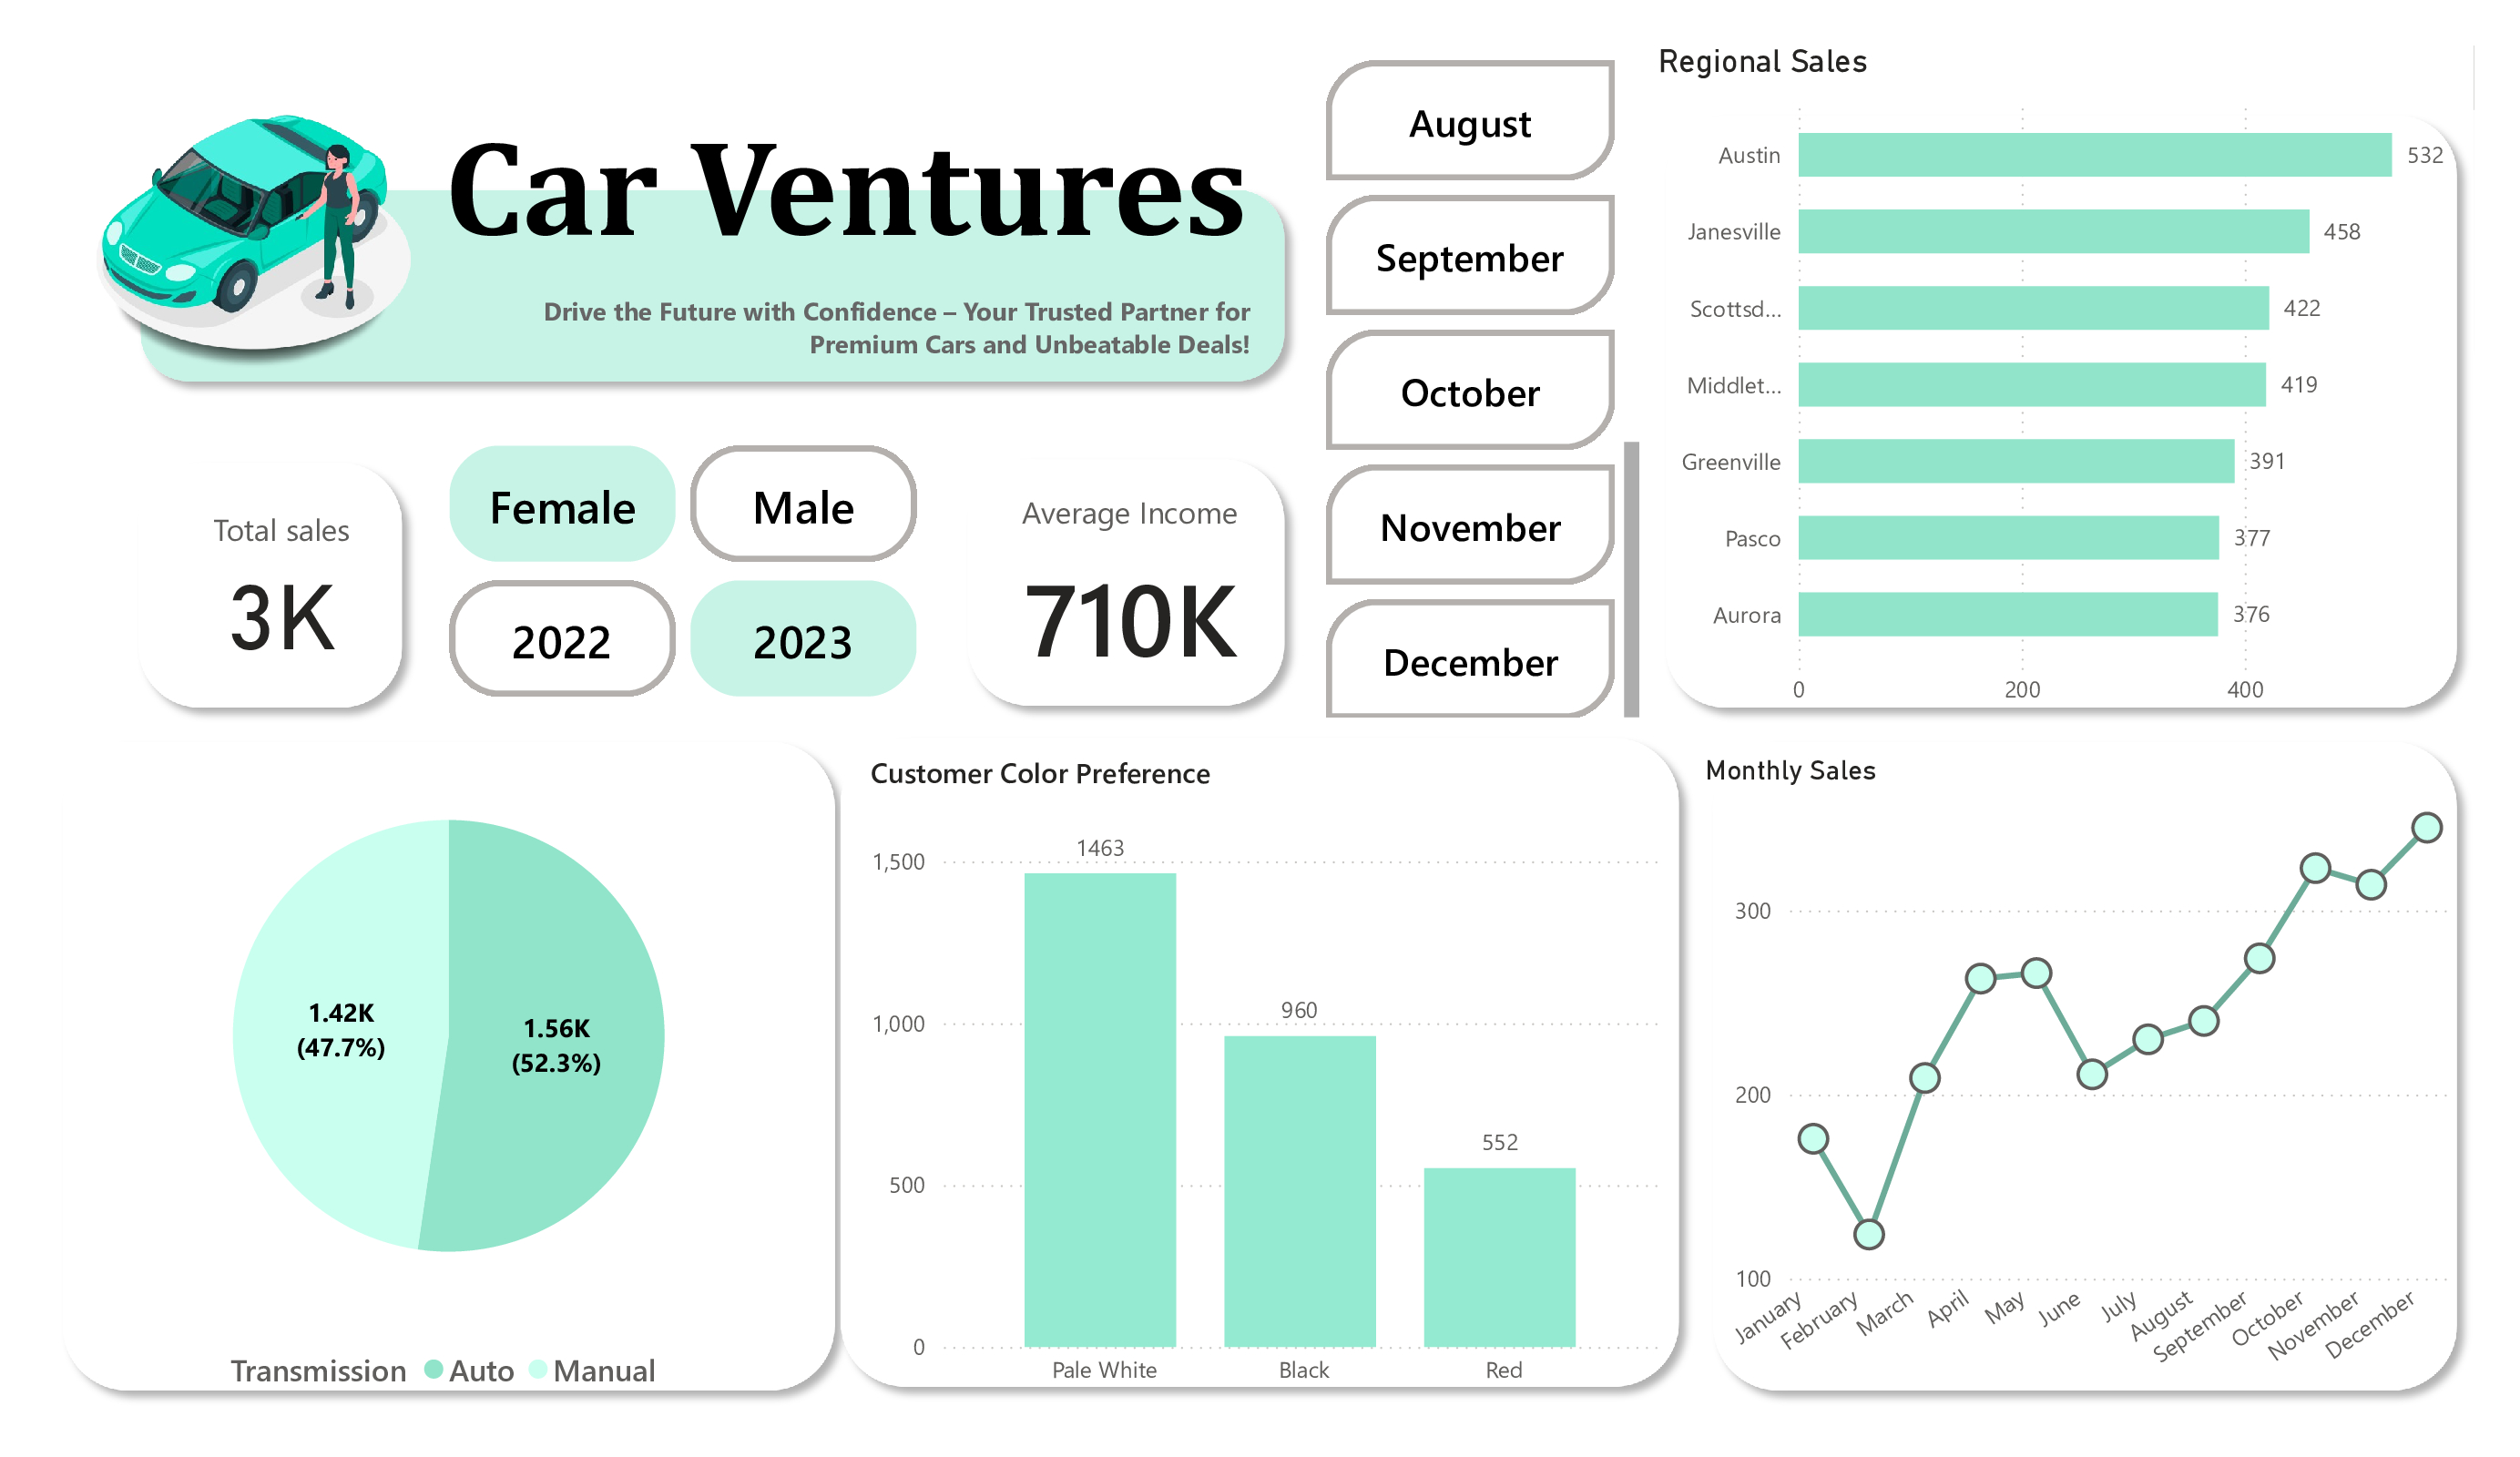

Layout of this report page (visuals, bound fields, positions):
{"tool":"powerbi","page":{"name":"Dashboard","canvas":[1280,720],"ordinal":0},"visuals":[{"type":"shape","box":[845,28.3,435,330],"z":0,"group":"g4"},{"type":"shape","box":[40.6,67.1,621.6,119],"z":0,"group":"g2"},{"type":"group","id":"g1","title":"Group 1","box":[40,211.6,156.7,146.7],"z":0,"group":"g7"},{"type":"shape","box":[40,211.6,156.7,146.7],"z":0,"group":"g1"},{"type":"shape","box":[410,356.6,460,360],"z":0,"group":"g6"},{"type":"shape","box":[0,358.3,425,360],"z":500,"group":"g5"},{"type":"image","box":[0,-1.7,217.7,187.3],"z":1000,"group":"g2"},{"type":"shape","box":[476.7,208.9,185,148.3],"z":1000,"group":"g7"},{"type":"cardVisual","title":"Tita","fields":{"Data":["CountNonNull(Car_Dataset.Purchase_id)"]},"box":[52.9,224.2,143.2,124.4],"z":1000,"group":"g1"},{"type":"clusteredColumnChart","title":"Customer Color Preference","fields":{"Category":["Car_Dataset.Color"],"Y":["CountNonNull(Car_Dataset.Purchase_id)"]},"box":[430,373.3,428.3,343.3],"z":1000,"group":"g6"},{"type":"group","id":"g2","title":"Group 2","box":[0,-1.7,662.2,187.8],"z":2000,"group":"g7"},{"type":"advancedSlicerVisual","fields":{"Values":["Car_Dataset.Gender"]},"box":[208.3,206.6,256.7,71],"z":2000,"group":"g3"},{"type":"advancedSlicerVisual","fields":{"Values":["Car_Dataset.Month"]},"box":[670,-1.7,175,360],"z":3000,"group":"g7"},{"type":"textbox","box":[193.1,27.6,458.3,105.4],"z":3000,"group":"g2"},{"type":"advancedSlicerVisual","fields":{"Values":["Car_Dataset.Date.Variation.Date Hierarchy.Year"]},"box":[208.3,277.6,256.7,71],"z":3001,"group":"g3"},{"type":"textbox","box":[230.5,126.2,409.6,53.9],"z":4000,"group":"g2"},{"type":"cardVisual","title":"Tita","fields":{"Data":["Avg(Car_Dataset.Annual Income)"]},"box":[490,218.3,163.3,130],"z":4000,"group":"g7"},{"type":"group","id":"g3","title":"Group 3","box":[208.3,206.6,256.7,141.7],"z":5000,"group":"g7"},{"type":"group","id":"g4","title":"Group 4","box":[845,-1.7,435,360],"z":6000,"group":"g7"},{"type":"clusteredBarChart","title":"Regional Sales","fields":{"Category":["Car_Dataset.Dealer_Region"],"Y":["CountNonNull(Car_Dataset.Dealer_Name)"]},"box":[845,-1.7,435,360],"z":7000,"group":"g4"},{"type":"group","id":"g5","title":"Group 5","box":[0,358.3,425,360],"z":7000,"group":"g7"},{"type":"pieChart","fields":{"Category":["Car_Dataset.Transmission"],"Y":["CountNonNull(Car_Dataset.Purchase_id)"]},"box":[0,358.3,425,360],"z":7000,"group":"g5"},{"type":"shape","box":[870,358.3,410,360],"z":8000,"group":"g7"},{"type":"group","id":"g6","title":"Group 6","box":[410,356.6,460,360],"z":9000,"group":"g7"},{"type":"group","id":"g7","title":"Group 7","box":[0,-1.7,1280.5,720.6],"z":9007},{"type":"lineChart","title":"Monthly Sales","fields":{"Category":["Car_Dataset.Date.Variation.Date Hierarchy.Month"],"Y":["CountNonNull(Car_Dataset.Purchase_id)"]},"box":[870,374.3,402,344],"z":10000,"group":"g7"}]}

Visuals, with their boxes on the page's 1280x720 design canvas (x1, y1, x2, y2). These are canvas units, not pixel positions in the 2520x1457 screenshot, which may show the page scaled, cropped or inside an application window:
shape: pyautogui.locateOnScreen(845, 28, 1280, 358)
shape: pyautogui.locateOnScreen(41, 67, 662, 186)
"Group 1" group: pyautogui.locateOnScreen(40, 212, 197, 358)
shape: pyautogui.locateOnScreen(40, 212, 197, 358)
shape: pyautogui.locateOnScreen(410, 357, 870, 717)
shape: pyautogui.locateOnScreen(0, 358, 425, 718)
image: pyautogui.locateOnScreen(0, -2, 218, 186)
shape: pyautogui.locateOnScreen(477, 209, 662, 357)
"Tita" cardVisual: pyautogui.locateOnScreen(53, 224, 196, 349)
"Customer Color Preference" clusteredColumnChart: pyautogui.locateOnScreen(430, 373, 858, 717)
"Group 2" group: pyautogui.locateOnScreen(0, -2, 662, 186)
advancedSlicerVisual - Car_Dataset.Gender: pyautogui.locateOnScreen(208, 207, 465, 278)
advancedSlicerVisual - Car_Dataset.Month: pyautogui.locateOnScreen(670, -2, 845, 358)
textbox: pyautogui.locateOnScreen(193, 28, 651, 133)
advancedSlicerVisual - Car_Dataset.Date.Variation.Date Hierarchy.Year: pyautogui.locateOnScreen(208, 278, 465, 349)
textbox: pyautogui.locateOnScreen(230, 126, 640, 180)
"Tita" cardVisual: pyautogui.locateOnScreen(490, 218, 653, 348)
"Group 3" group: pyautogui.locateOnScreen(208, 207, 465, 348)
"Group 4" group: pyautogui.locateOnScreen(845, -2, 1280, 358)
"Regional Sales" clusteredBarChart: pyautogui.locateOnScreen(845, -2, 1280, 358)
"Group 5" group: pyautogui.locateOnScreen(0, 358, 425, 718)
pieChart - Car_Dataset.Transmission x CountNonNull(Car_Dataset.Purchase_id): pyautogui.locateOnScreen(0, 358, 425, 718)
shape: pyautogui.locateOnScreen(870, 358, 1280, 718)
"Group 6" group: pyautogui.locateOnScreen(410, 357, 870, 717)
"Group 7" group: pyautogui.locateOnScreen(0, -2, 1280, 719)
"Monthly Sales" lineChart: pyautogui.locateOnScreen(870, 374, 1272, 718)
